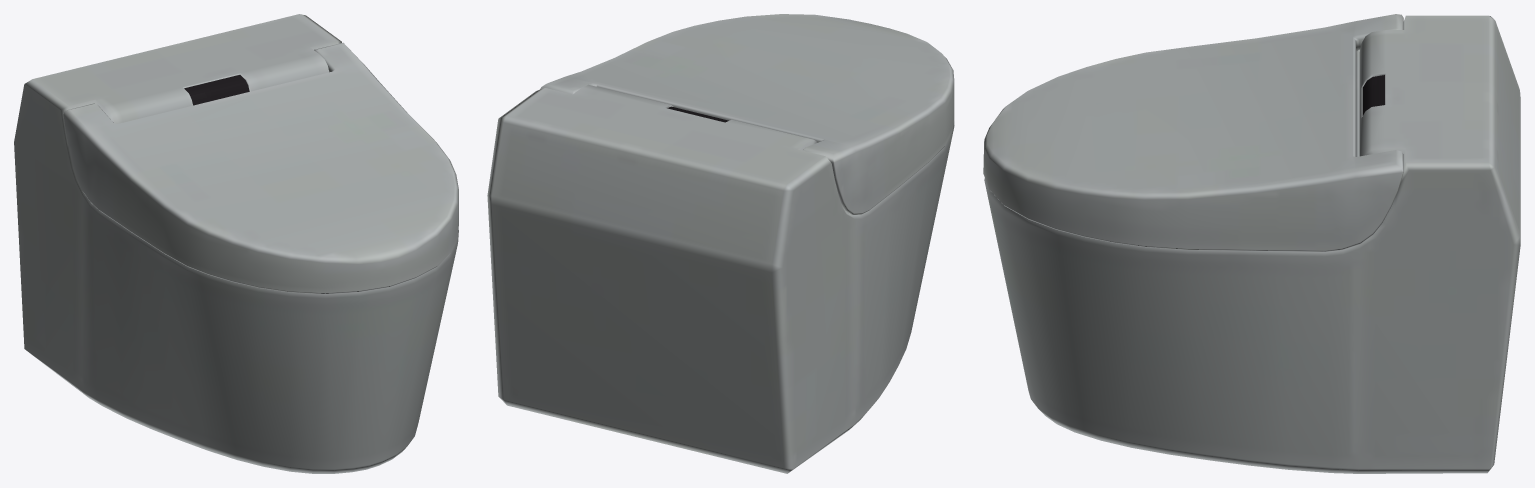
3 views of the same model, side by side, from view 1: azimuth 30°, elevation 25°; view 2: azimuth 150°, elevation 25°; view 3: azimuth 270°, elevation 25° (orthographic). The views are drawn at different scales.
Size of the model in its own units: 5.48 by 5.13 by 8.04.
Materials: 3 (2 with a texture image).
